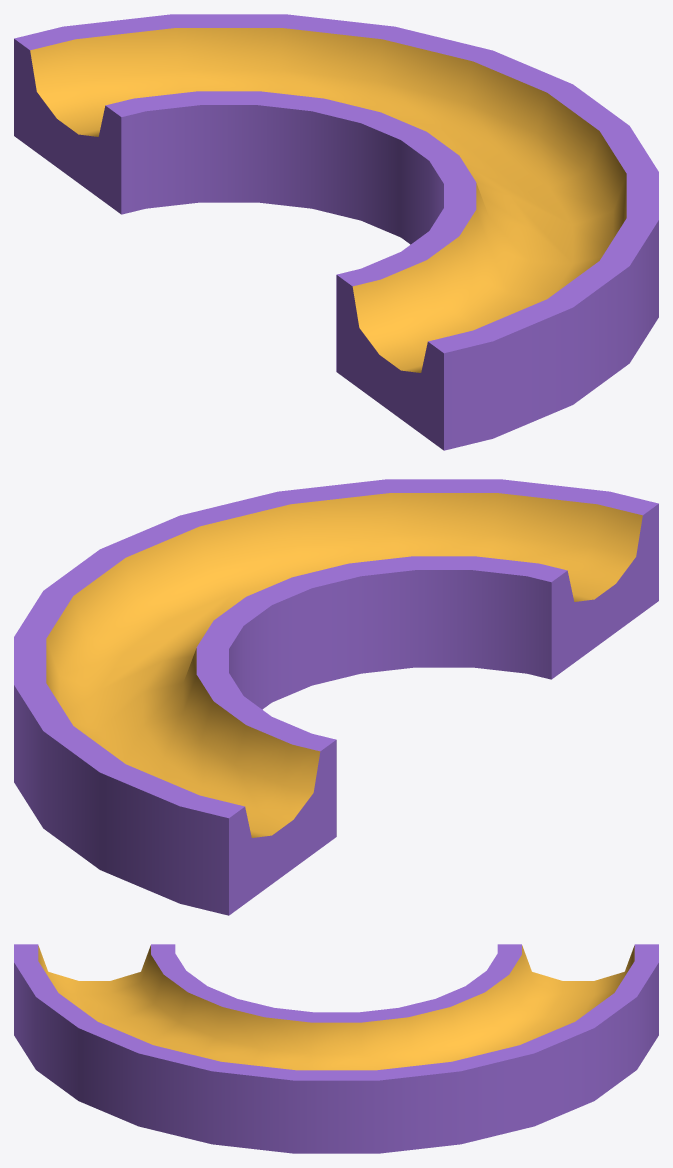
The model's file is bend-medium-col.glb.
The picture shows the model from 3 angles, top to bottom: view 1: azimuth 30°, elevation 25°; view 2: azimuth 150°, elevation 25°; view 3: azimuth 270°, elevation 25°; orthographic projection. The views are drawn at different scales.
Visible parts, largest first — view 1: bend-medium-col; view 2: bend-medium-col; view 3: bend-medium-col.
Boxes of the visible parts, box(x1,y1,x2,y2) form: bend-medium-col: box(14, 14, 658, 450); bend-medium-col: box(14, 479, 658, 915); bend-medium-col: box(14, 944, 658, 1153).
Bounding box in the file's own units: 2 × 0.5 × 4.
1 material, 1 textured.
